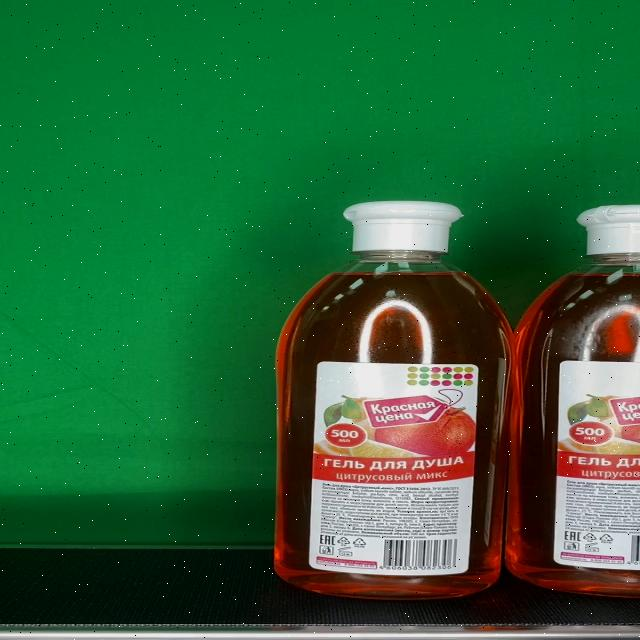Bottle: (274, 200, 516, 601)
Cap: (342, 201, 463, 253)
